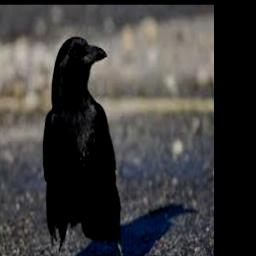Crow: (44, 36, 128, 256)
